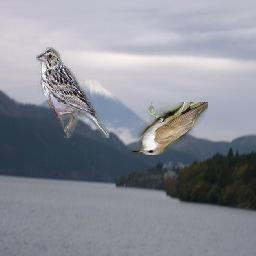Cuckoo: (132, 103, 209, 156)
Sparrow: (37, 48, 110, 139)
